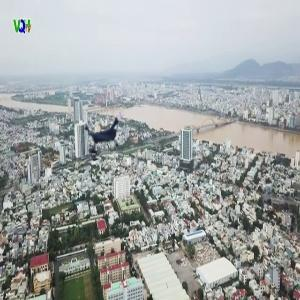drone: (81, 104, 133, 156)
